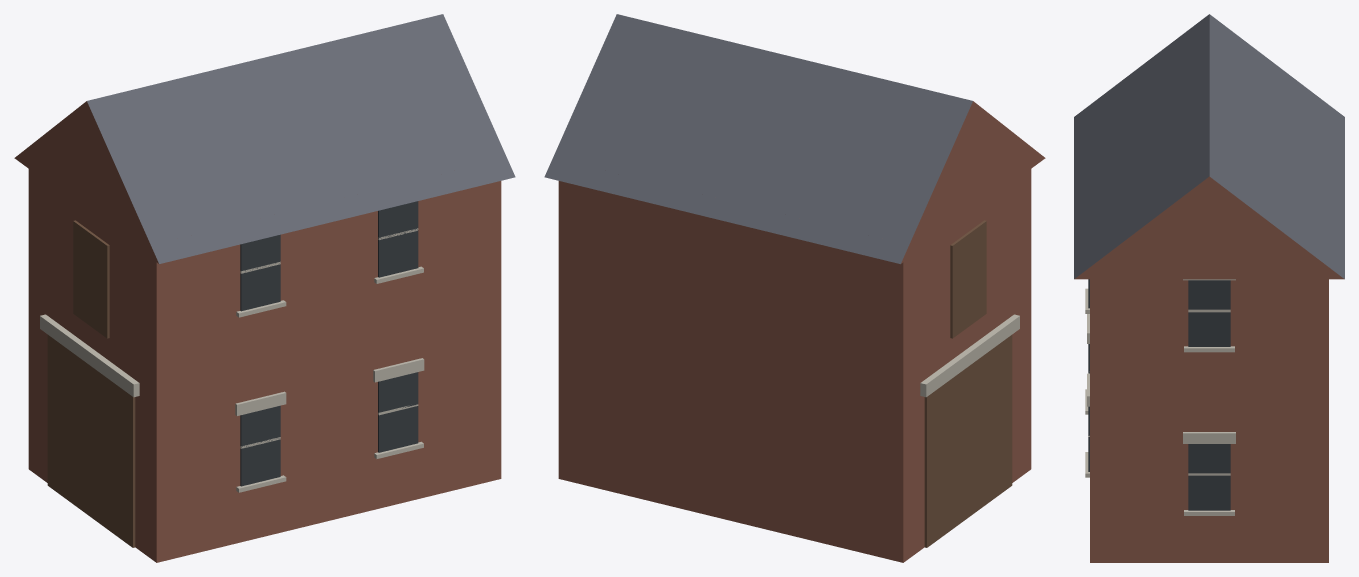
Rendered from house_1803_indiana_shed__draft_1904.glb.
3 views of the same model, side by side, from view 1: azimuth 30°, elevation 25°; view 2: azimuth 150°, elevation 25°; view 3: azimuth 270°, elevation 25° (orthographic). The views are drawn at different scales.
Parts seen in each view (by area): view 1: house_1803_indiana_shed__draft_1904; view 2: house_1803_indiana_shed__draft_1904; view 3: house_1803_indiana_shed__draft_1904.
Boxes of the visible parts, left/top/right/bottom form: house_1803_indiana_shed__draft_1904: left=14, top=14, right=515, bottom=562; house_1803_indiana_shed__draft_1904: left=544, top=14, right=1045, bottom=562; house_1803_indiana_shed__draft_1904: left=1074, top=14, right=1344, bottom=562.
Bounding box in the file's own units: 7.24 × 8.09 × 5.1.
